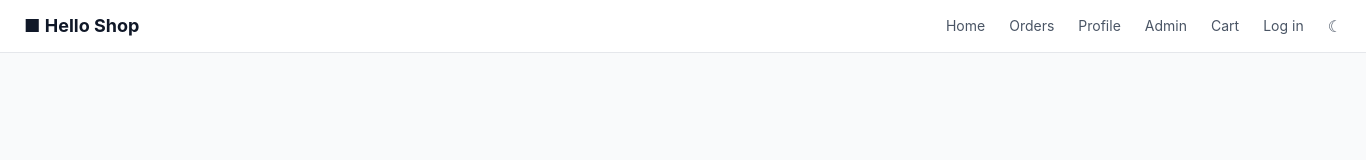
Test: Header › shows the user name and a Log out button after logging in
Click the button "Log in" at (1283, 26), box x1=1263 y1=16 x2=1304 y2=36
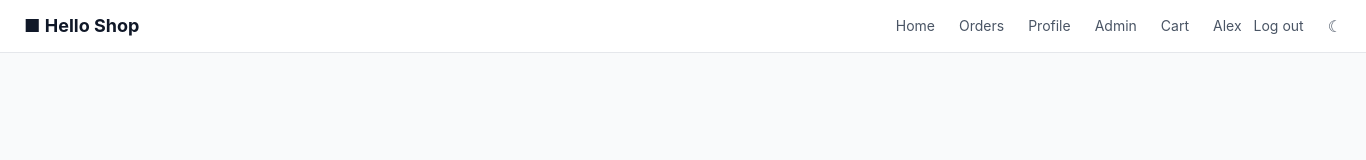
Expected: the text "Alex" is shown, x1=1213 y1=16 x2=1242 y2=36
Expected: the button "Log out" is shown, x1=1254 y1=16 x2=1304 y2=36
